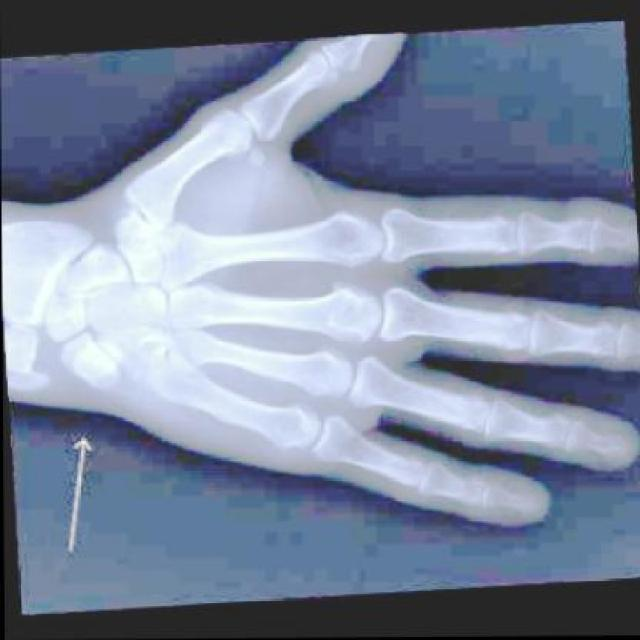Fracture: (120, 334, 178, 398)
